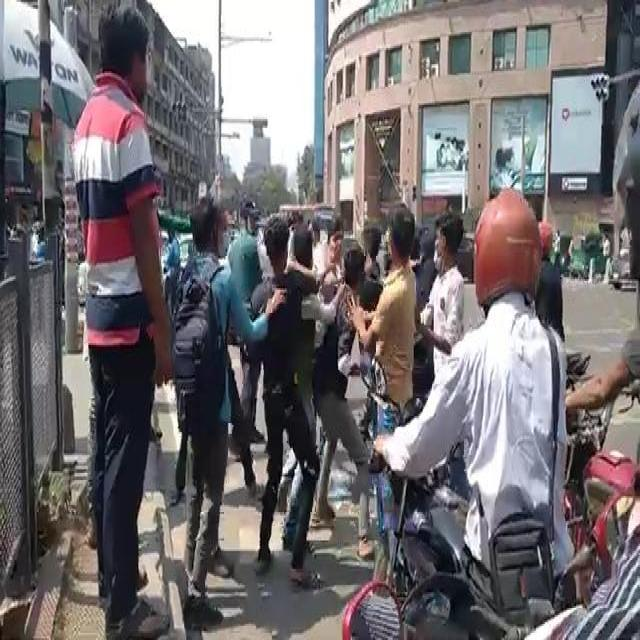fight: (57, 2, 172, 617), (423, 197, 575, 638), (236, 162, 392, 533)
